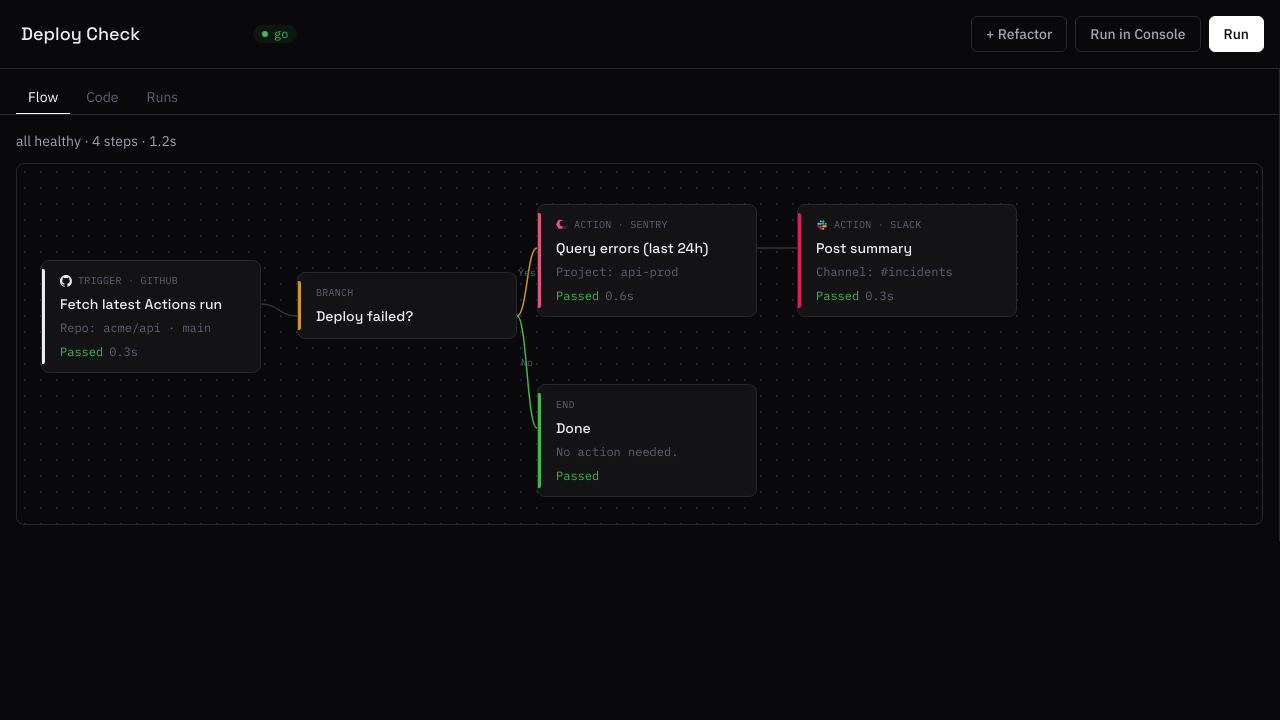
Test: refactor is closed by default and opens from CTA
The image size is (1280, 720).
Expected: the field with placeholder "Describe a change" is not shown
Click the button "+ Refactor".
click(1019, 34)  # box [971,16,1067,52]
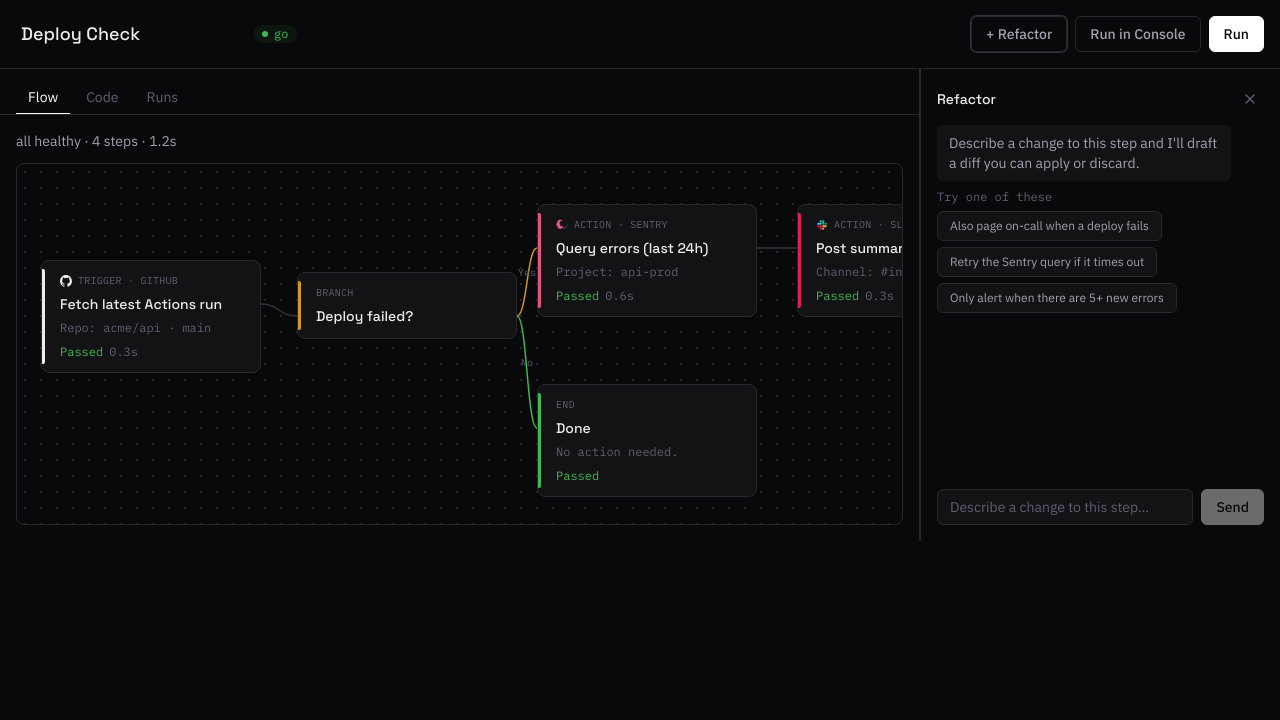
Expected: the field with placeholder "Describe a change to this step…" is shown, [937,489,1193,525]
